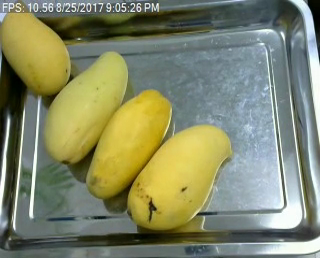Mango: (125, 126, 234, 228), (46, 47, 130, 169), (85, 83, 172, 200), (0, 0, 73, 91)
